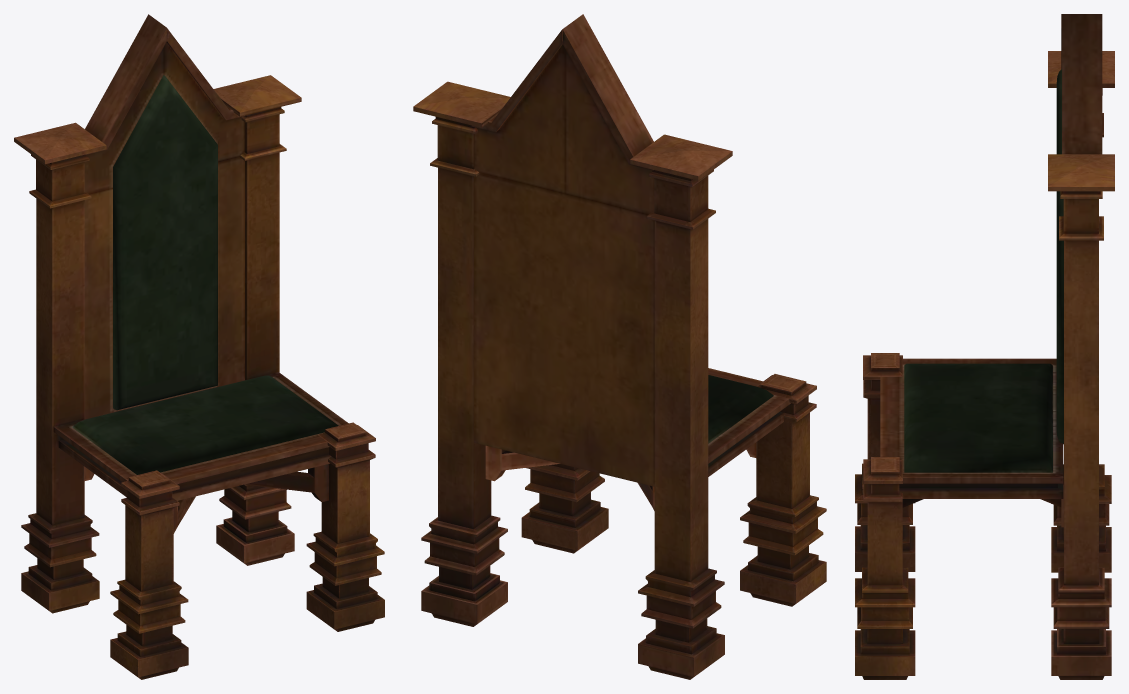
File: teacher-chair.lo.glb
The picture shows the model from 3 angles, left to right: view 1: azimuth 30°, elevation 25°; view 2: azimuth 150°, elevation 25°; view 3: azimuth 270°, elevation 25°; orthographic projection. The views are drawn at different scales.
Visible parts, largest first — view 1: LP1_Material #25_0, LP2_Material #26_0; view 2: LP2_Material #26_0, LP1_Material #25_0; view 3: LP1_Material #25_0, LP2_Material #26_0.
Boxes of the visible parts, x1,y1,x2,y2 form: LP1_Material #25_0: (14, 75, 348, 613); LP2_Material #26_0: (82, 14, 384, 679); LP2_Material #26_0: (471, 14, 826, 606); LP1_Material #25_0: (413, 81, 790, 679); LP1_Material #25_0: (880, 51, 1114, 679); LP2_Material #26_0: (855, 14, 1102, 679).
Bounding box in the file's own units: 0.8435 × 1.75 × 0.6815.
Materials: 2 (2 with a texture image).
